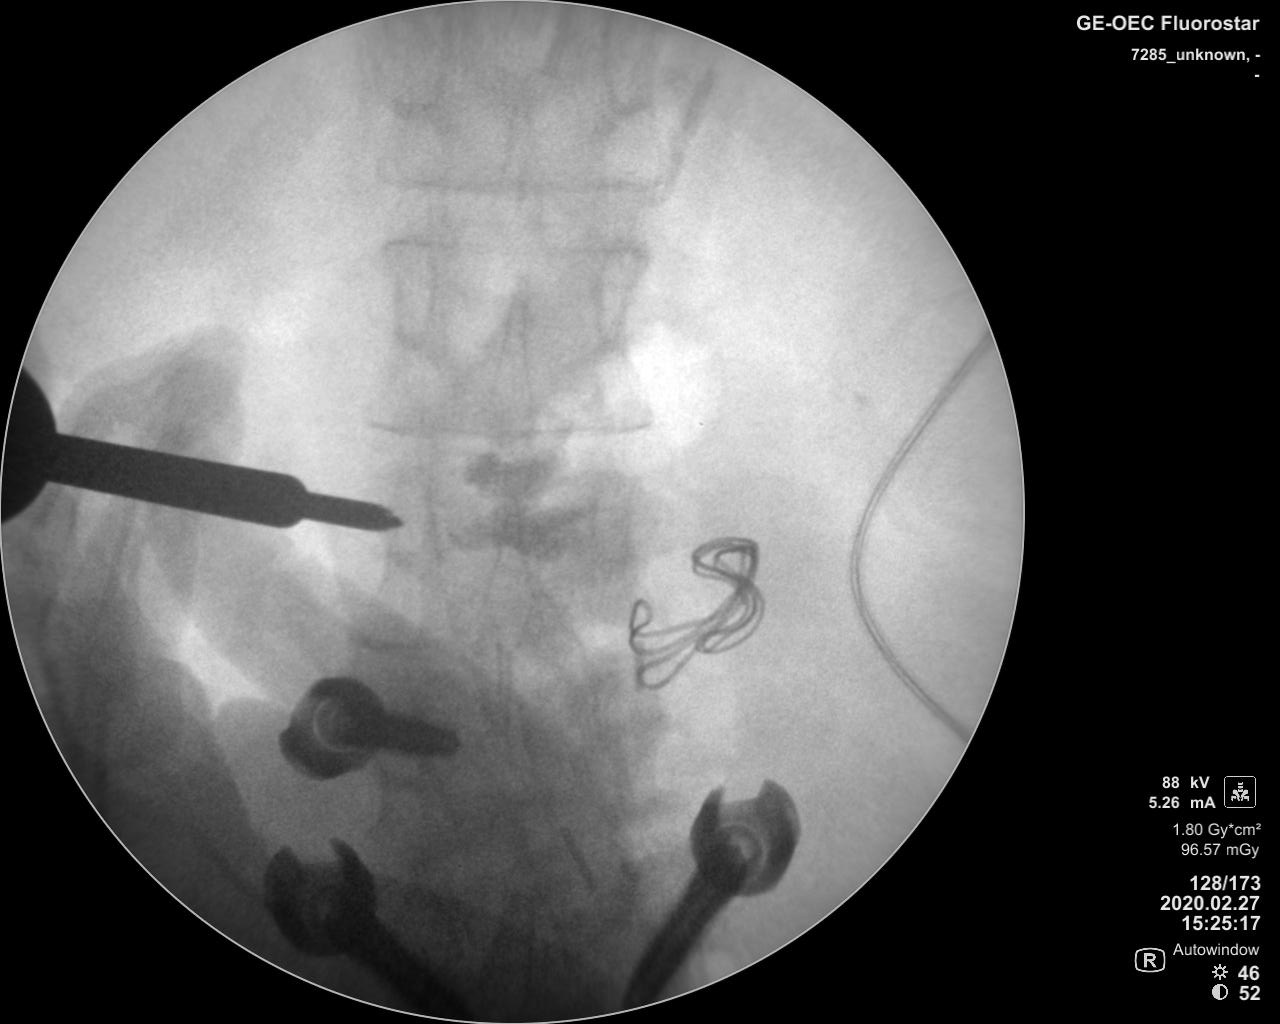eyes: (376, 15, 446, 116), (600, 10, 658, 118), (390, 236, 434, 353), (590, 469, 638, 564), (592, 245, 638, 341), (386, 475, 435, 559)
line: (375, 230, 646, 264), (360, 411, 665, 440), (376, 167, 662, 196)
nose: (485, 281, 541, 449), (482, 505, 532, 657), (492, 97, 546, 230)
